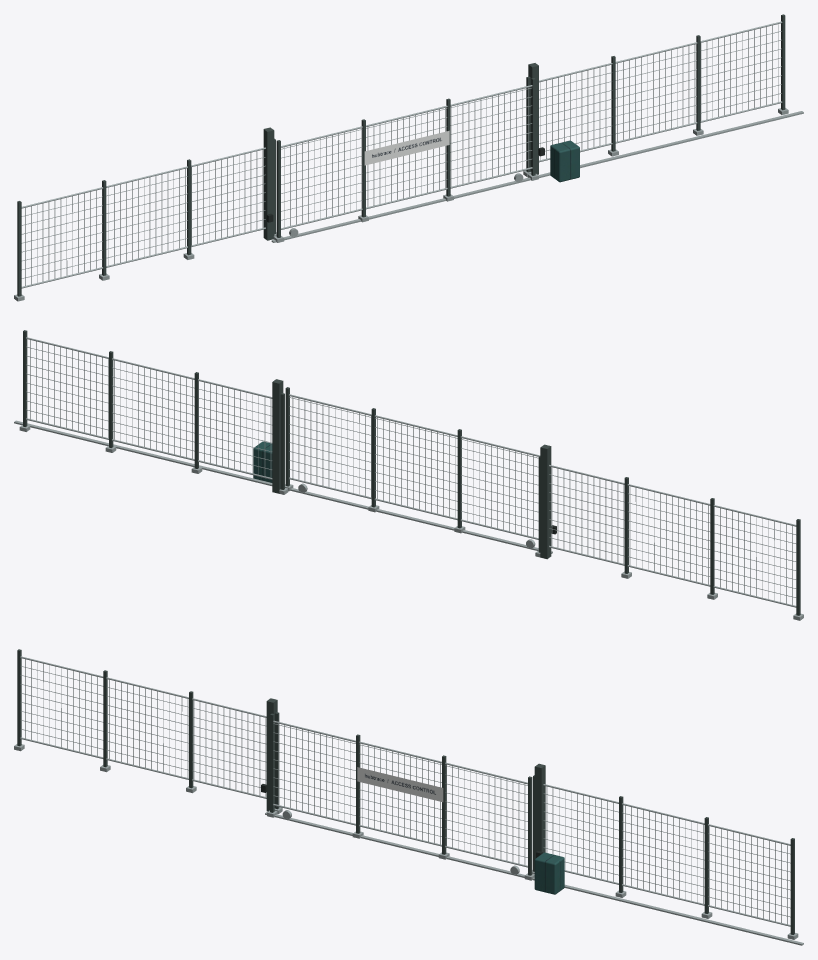
File: security-fence-gate.glb
3 renders of one model, top to bottom at view 1: azimuth 30°, elevation 25°; view 2: azimuth 150°, elevation 25°; view 3: azimuth 330°, elevation 25°, orthographic.
Parts seen in each view (by area): view 1: security-fence-gate_galvanized-steel, sliding_gate_galvanized-steel, security-fence-gate_powder-coated-frame, sliding_gate_powder-coated-frame, sliding_gate_gate-warning-ink, security-fence-gate_hubtrace-teal-cladding; view 2: security-fence-gate_galvanized-steel, sliding_gate_galvanized-steel, security-fence-gate_powder-coated-frame, sliding_gate_powder-coated-frame, security-fence-gate_hubtrace-teal-cladding; view 3: security-fence-gate_galvanized-steel, sliding_gate_galvanized-steel, security-fence-gate_powder-coated-frame, sliding_gate_powder-coated-frame, sliding_gate_gate-warning-ink, security-fence-gate_hubtrace-teal-cladding.
Boxes of the visible parts, box(x1,y1,x2,y2) form: security-fence-gate_galvanized-steel: box(14, 21, 803, 301); sliding_gate_galvanized-steel: box(273, 85, 538, 242); security-fence-gate_powder-coated-frame: box(17, 14, 785, 296); sliding_gate_powder-coated-frame: box(276, 78, 535, 237); sliding_gate_gate-warning-ink: box(364, 130, 449, 165); security-fence-gate_hubtrace-teal-cladding: box(550, 140, 579, 182); security-fence-gate_galvanized-steel: box(14, 337, 803, 620); sliding_gate_galvanized-steel: box(285, 394, 540, 547); security-fence-gate_powder-coated-frame: box(23, 330, 800, 615); sliding_gate_powder-coated-frame: box(285, 387, 461, 528); security-fence-gate_hubtrace-teal-cladding: box(253, 441, 272, 482); security-fence-gate_galvanized-steel: box(14, 656, 803, 945); sliding_gate_galvanized-steel: box(267, 720, 534, 880); security-fence-gate_powder-coated-frame: box(17, 649, 794, 934); sliding_gate_powder-coated-frame: box(270, 713, 532, 875); sliding_gate_gate-warning-ink: box(357, 767, 443, 802); security-fence-gate_hubtrace-teal-cladding: box(534, 852, 564, 894).
Size of the model in its own units: 18.43 by 2.45 by 0.7305.
5 materials, 3 textured.
